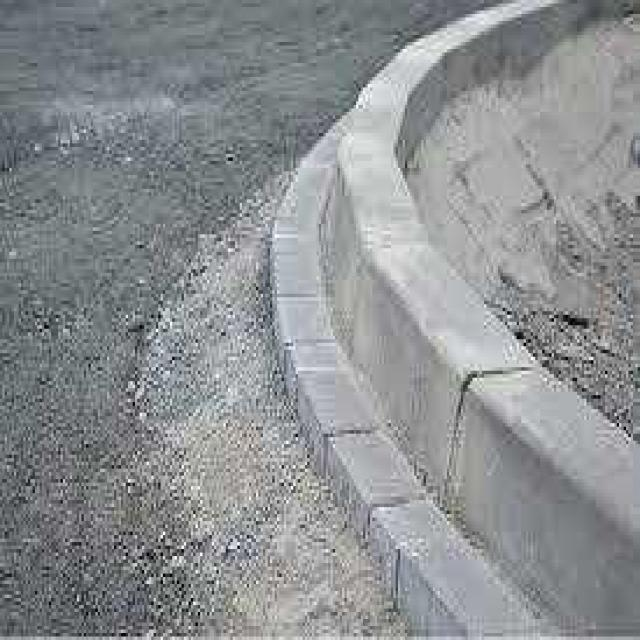curb: (329, 366, 640, 632), (272, 104, 455, 418)
